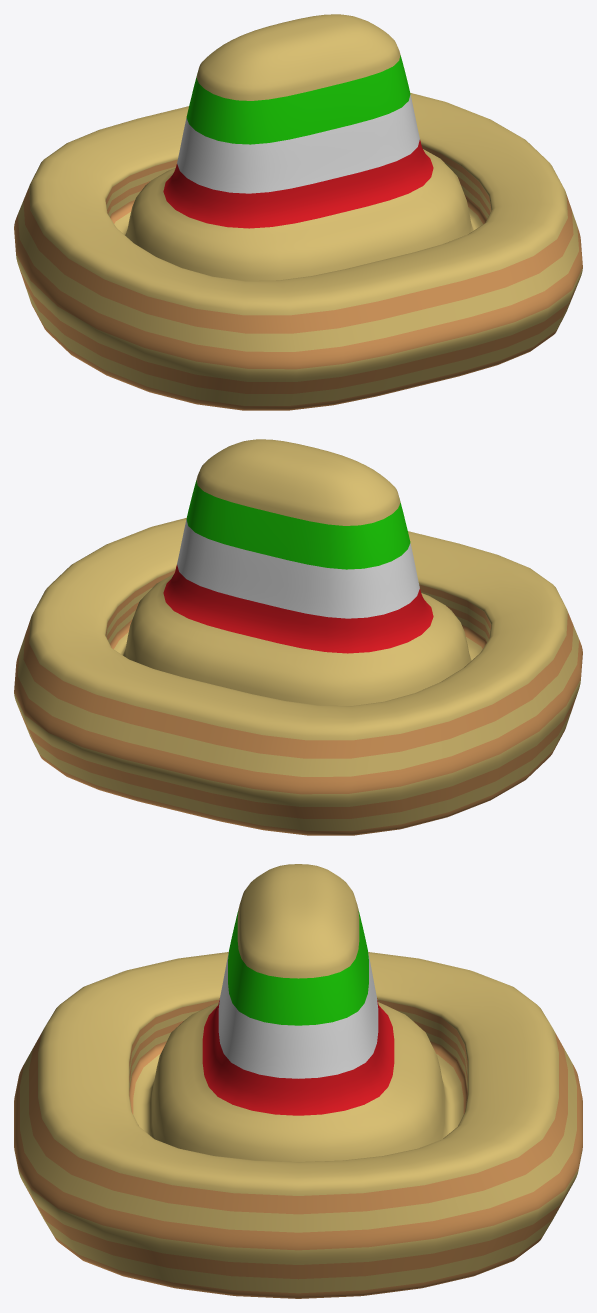
The model's file is sombrero.fbx.
The picture shows the model from 3 angles, top to bottom: view 1: azimuth 30°, elevation 25°; view 2: azimuth 150°, elevation 25°; view 3: azimuth 270°, elevation 25°; orthographic projection. The views are drawn at different scales.
Parts seen in each view (by area): view 1: Hut; view 2: Hut; view 3: Hut.
Boxes of the visible parts, x1,y1,x2,y2 form: Hut: (14, 14, 582, 410); Hut: (14, 439, 582, 835); Hut: (14, 864, 582, 1298).
Size of the model in its own units: 218 by 118 by 208.
